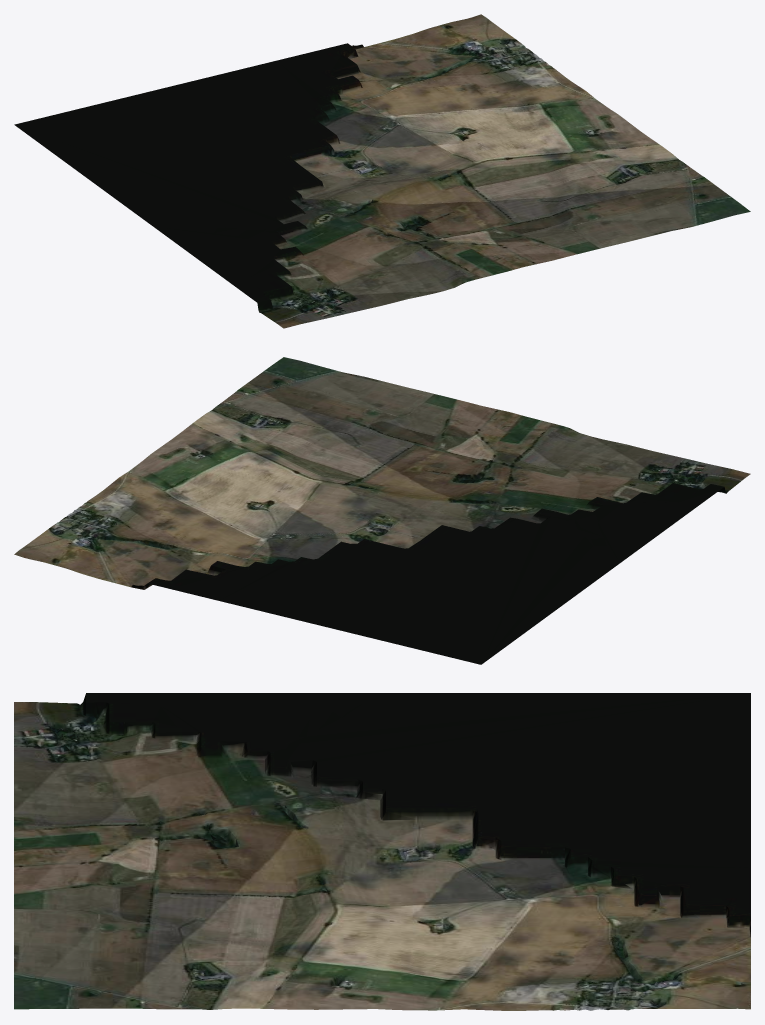
File: map_10_250_430.dae
The picture shows the model from 3 angles, top to bottom: view 1: azimuth 30°, elevation 25°; view 2: azimuth 150°, elevation 25°; view 3: azimuth 270°, elevation 25°; orthographic projection. The views are drawn at different scales.
Parts seen in each view (by area): view 1: Ter0; view 2: Ter0; view 3: Ter0.
Boxes of the visible parts, x1,y1,x2,y2 form: Ter0: (14,14,750,328); Ter0: (14,357,750,664); Ter0: (14,693,750,1010).
Bounding box in the file's own units: 2044 × 2044 × 51.15.
2 materials, 2 textured.
